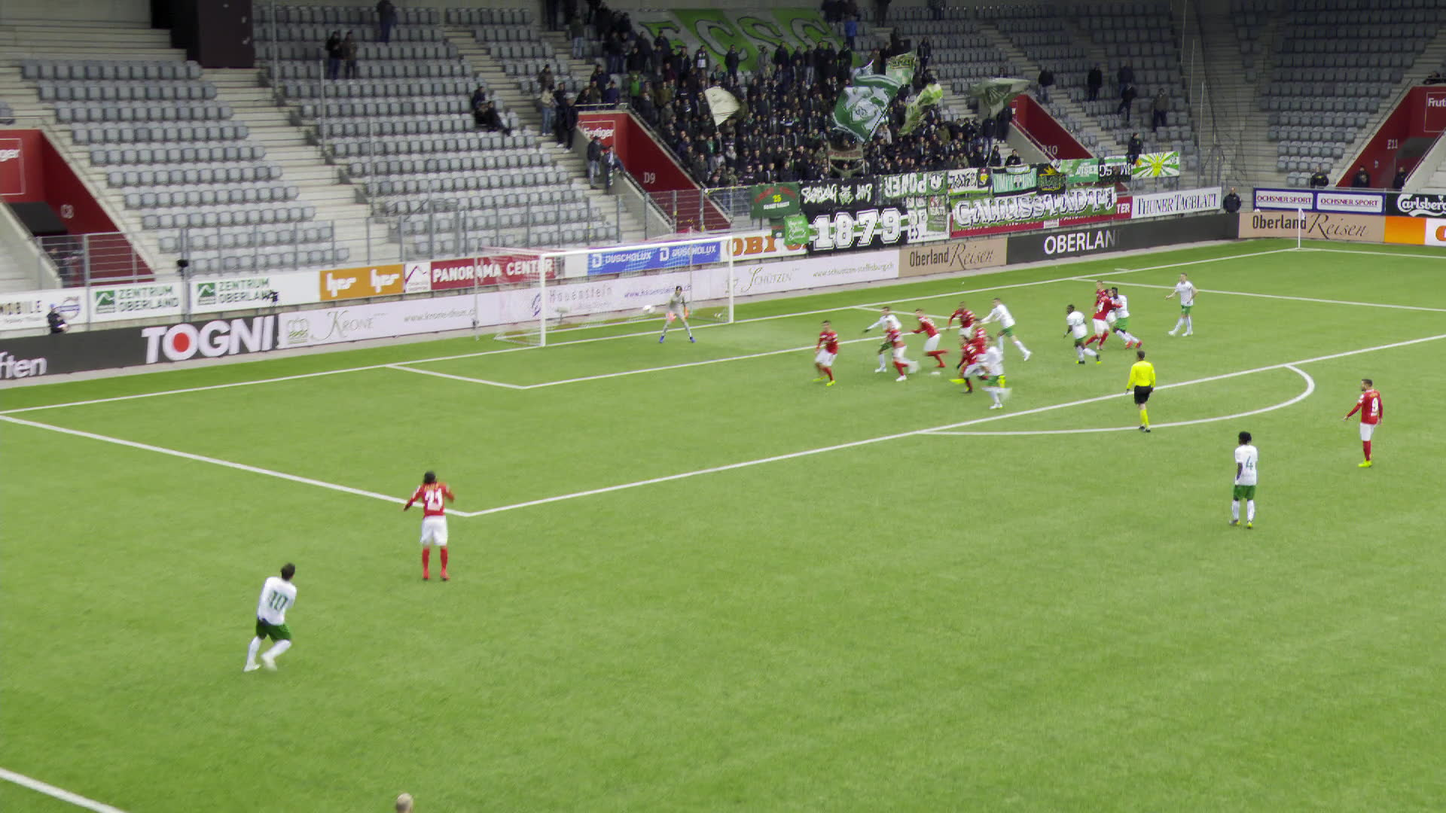ball: (635, 305, 651, 318)
player: (225, 556, 316, 673), (407, 460, 461, 574), (872, 300, 937, 371), (977, 333, 1031, 408), (1344, 373, 1384, 467), (1224, 425, 1259, 525), (877, 317, 930, 379), (984, 294, 1031, 359), (974, 314, 1012, 386), (908, 306, 949, 369), (947, 332, 993, 388), (1062, 303, 1103, 365), (809, 316, 846, 384), (657, 282, 696, 346), (1164, 267, 1200, 335), (1084, 289, 1121, 352), (1108, 282, 1144, 346), (1082, 279, 1113, 351), (949, 295, 991, 339)
referee: (1125, 347, 1158, 431)
